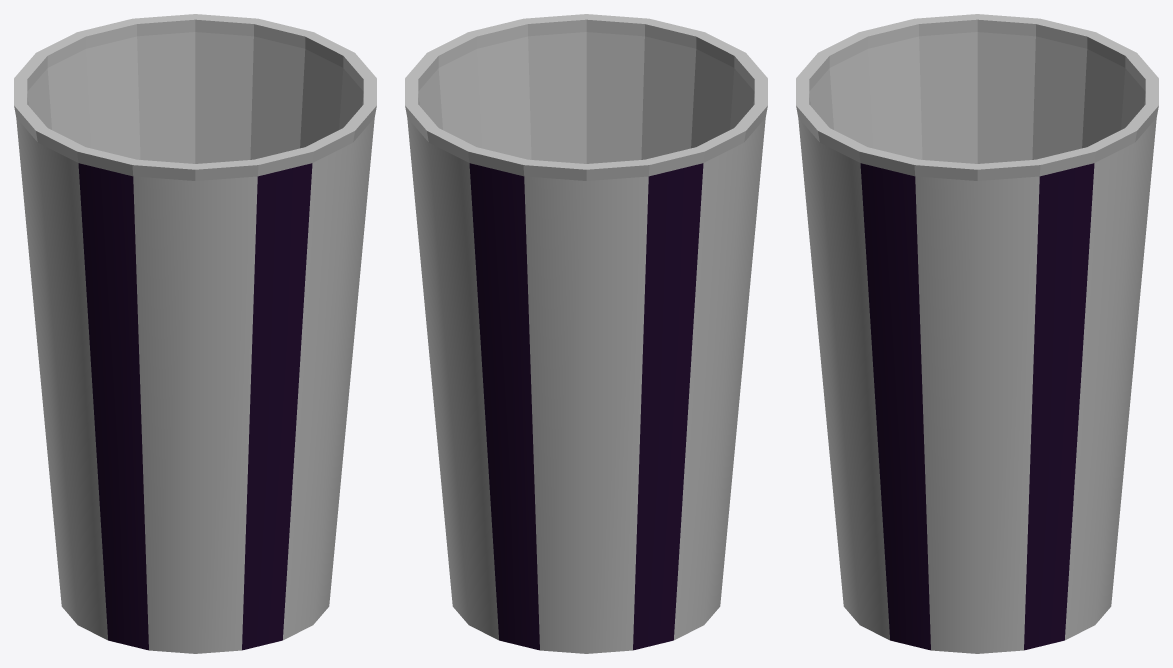
The model's file is PurpleCup.fbx.
3 views of the same model, side by side, from view 1: azimuth 30°, elevation 25°; view 2: azimuth 150°, elevation 25°; view 3: azimuth 270°, elevation 25° (orthographic).
Parts seen in each view (by area): view 1: PurpleCup; view 2: PurpleCup; view 3: PurpleCup.
Boxes of the visible parts, x1,y1,x2,y2 form: PurpleCup: [14, 14, 376, 653]; PurpleCup: [405, 14, 767, 653]; PurpleCup: [796, 14, 1158, 653].
Bounding box in the file's own units: 26.87 × 40.61 × 26.47.
